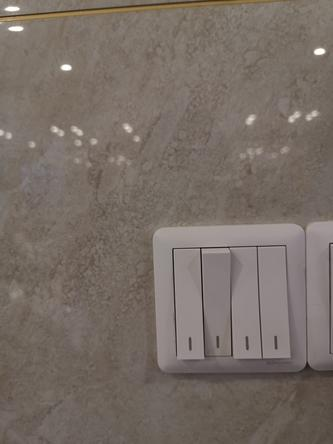switch: (255, 241, 293, 363), (170, 241, 208, 362), (225, 244, 263, 362), (199, 245, 234, 359)
